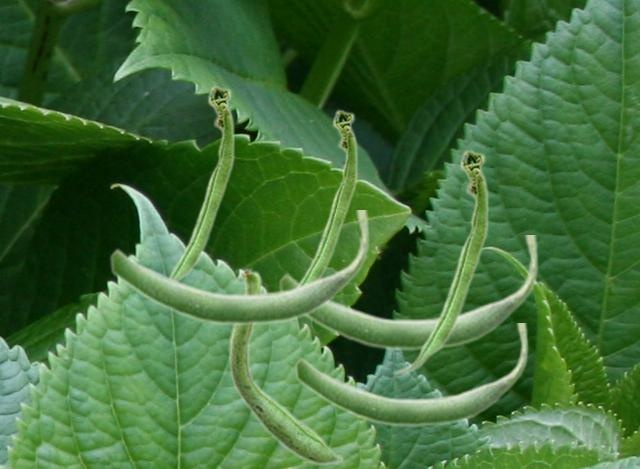french_bean: (278, 235, 538, 351), (109, 210, 369, 326), (294, 323, 528, 427), (228, 266, 343, 465), (392, 148, 488, 375), (168, 84, 234, 280), (297, 108, 357, 284)
